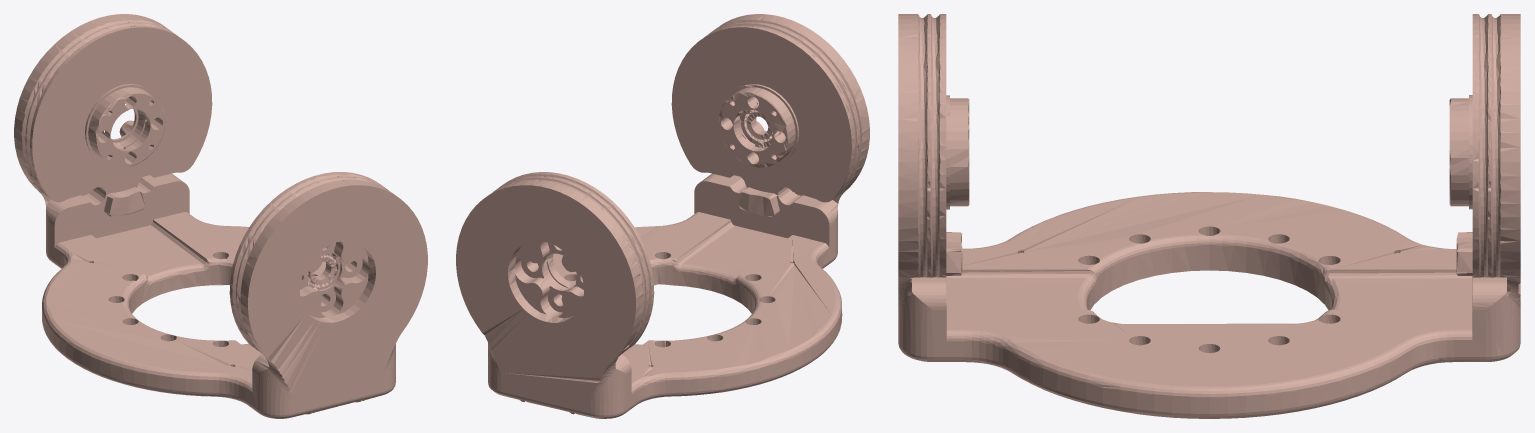
Rendered from T2R3_TJ1_pan.dae.
The picture shows the model from 3 angles, left to right: view 1: azimuth 30°, elevation 25°; view 2: azimuth 150°, elevation 25°; view 3: azimuth 270°, elevation 25°; orthographic projection. The views are drawn at different scales.
Visible parts, largest first — view 1: T2R3_TJ1_pan; view 2: T2R3_TJ1_pan; view 3: T2R3_TJ1_pan.
Boxes of the visible parts, x1,y1,x2,y2 form: T2R3_TJ1_pan: [14, 14, 427, 418]; T2R3_TJ1_pan: [456, 14, 869, 418]; T2R3_TJ1_pan: [898, 14, 1520, 418].
Bounding box in the file's own units: 0.175 × 0.2284 × 0.1196.
